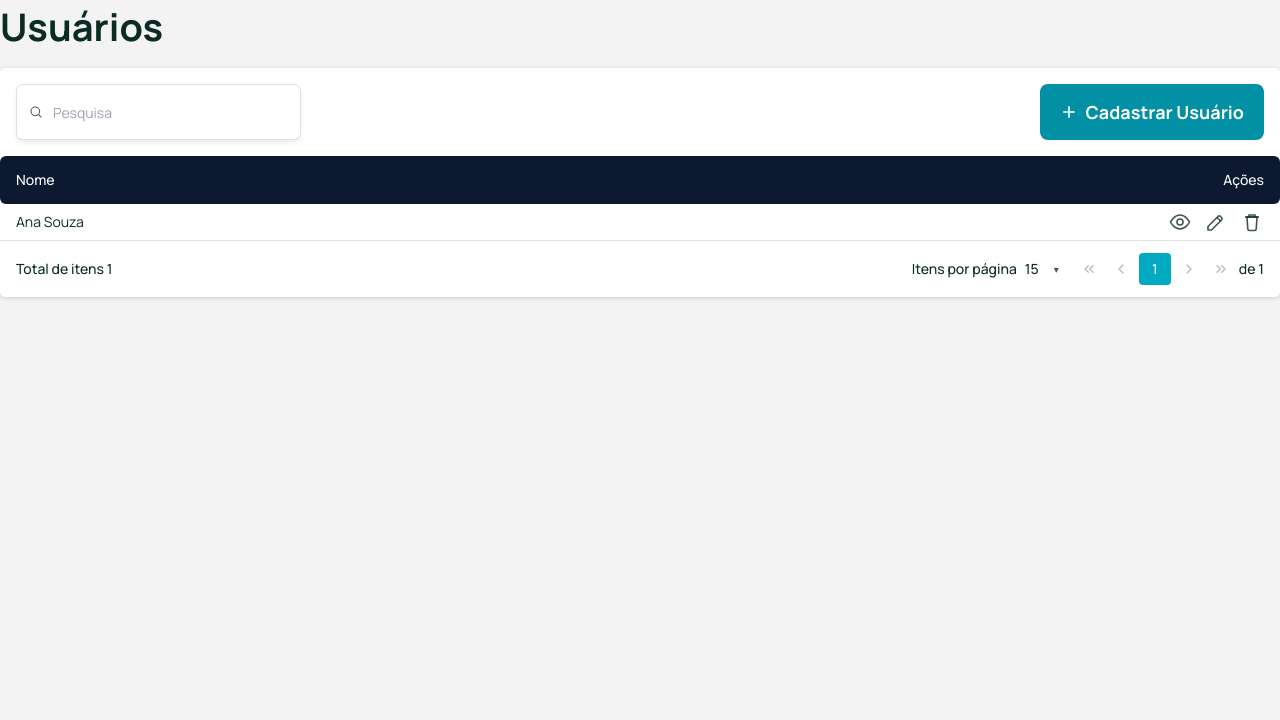
Scenario: UsersListPage › deletes a user after confirming the modal
The image size is (1280, 720).
expect the text "Ana Souza" is shown: met, box [0,204,561,240]
Click the button named "Excluir Ana Souza": (1252, 222) [1240,210,1264,234]
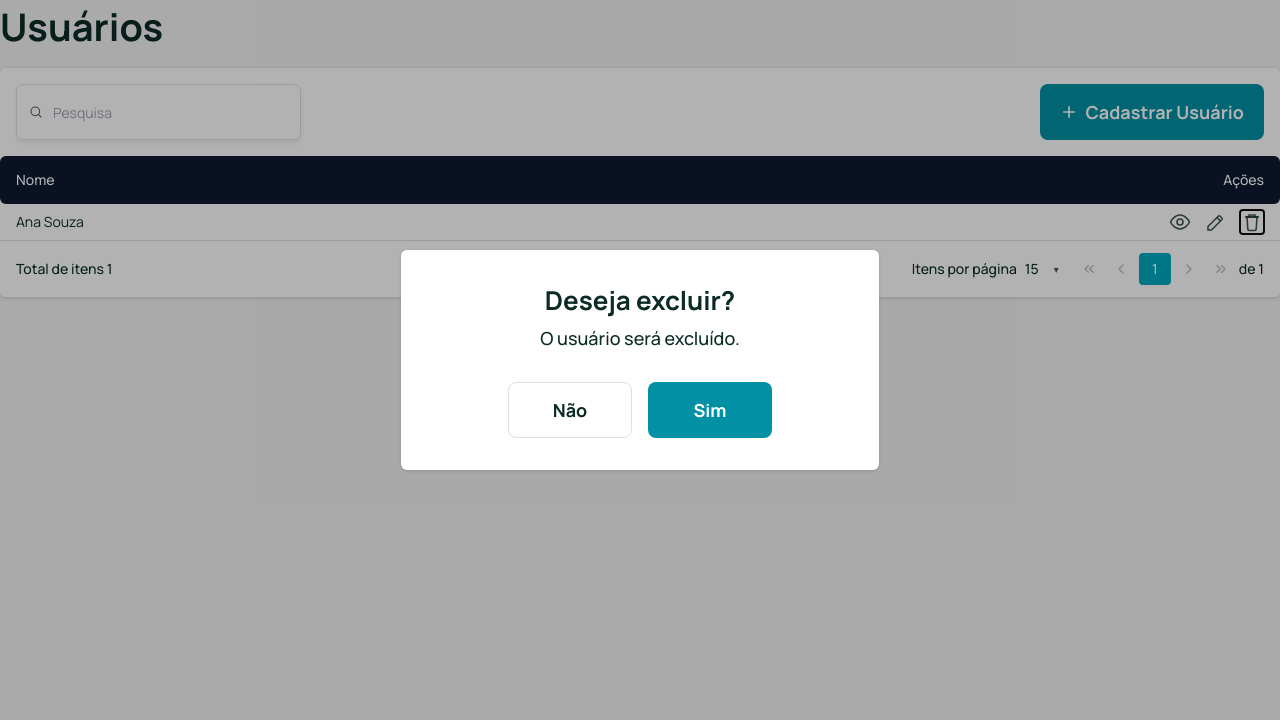
expect the heading "Deseja excluir?" is shown: met, box [545,282,735,318]
Click the button "Sim": (710, 410) [648,382,772,438]
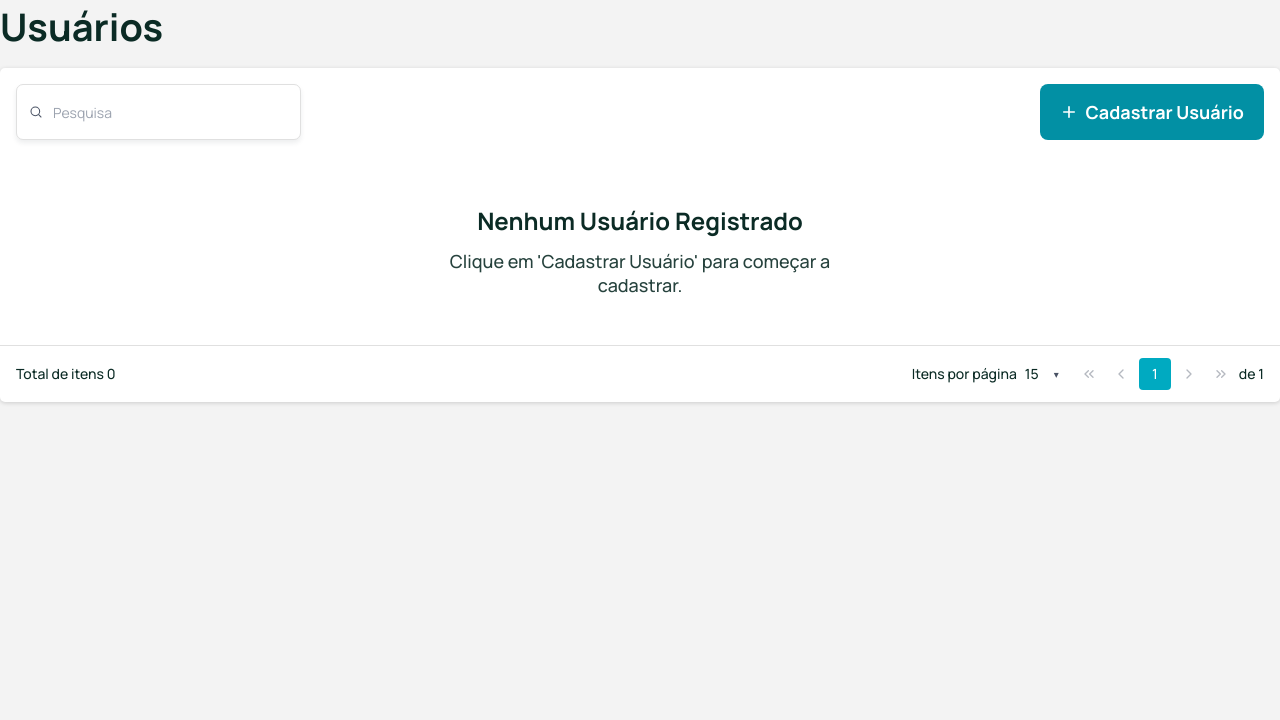
expect the text "Ana Souza" is gone: met
